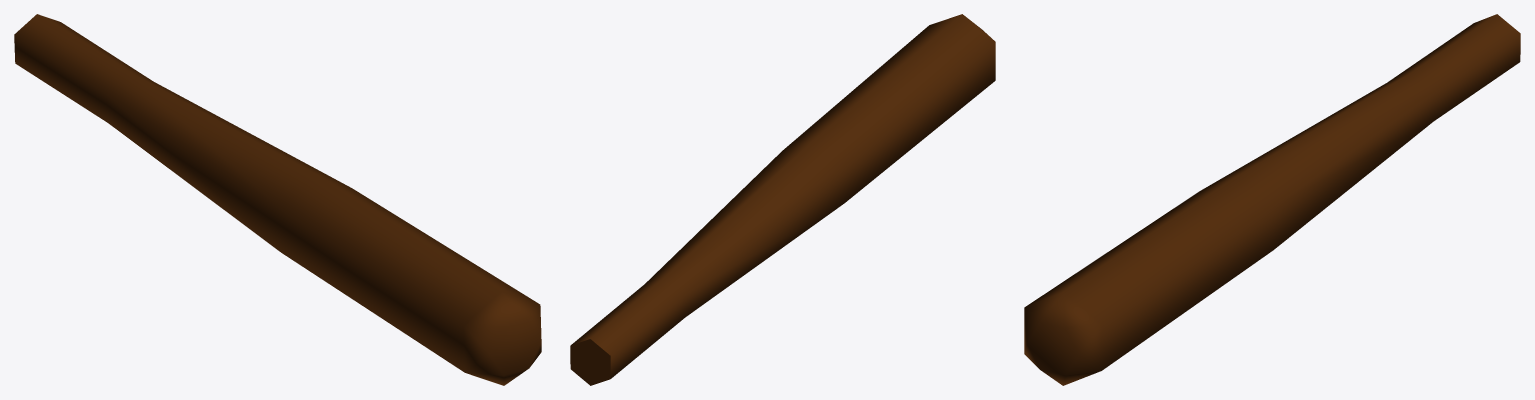
The model's file is bita.fbx.
3 views of the same model, side by side, from view 1: azimuth 30°, elevation 25°; view 2: azimuth 150°, elevation 25°; view 3: azimuth 330°, elevation 25° (orthographic). The views are drawn at different scales.
Visible parts, largest first — view 1: bita_R_inhand1; view 2: bita_R_inhand1; view 3: bita_R_inhand1.
Part boxes in pixels (<box>): bita_R_inhand1: <box>14,14,541,385</box>; bita_R_inhand1: <box>570,14,995,385</box>; bita_R_inhand1: <box>1024,14,1520,385</box>.
Size of the model in its own units: 8.42 by 10.76 by 83.99.
